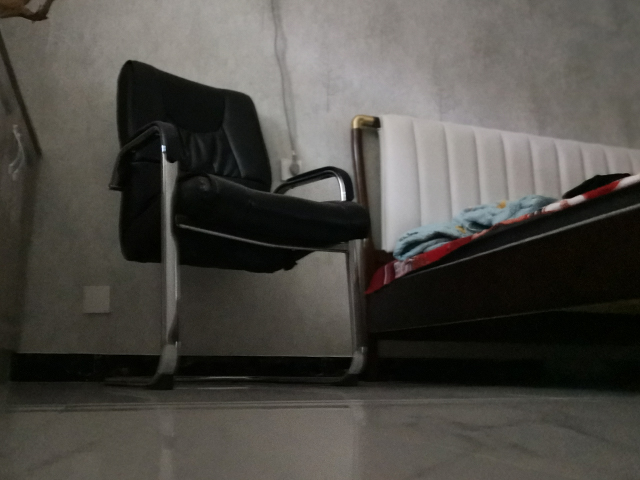bed: (349, 113, 640, 383)
stool: (101, 57, 374, 392)
